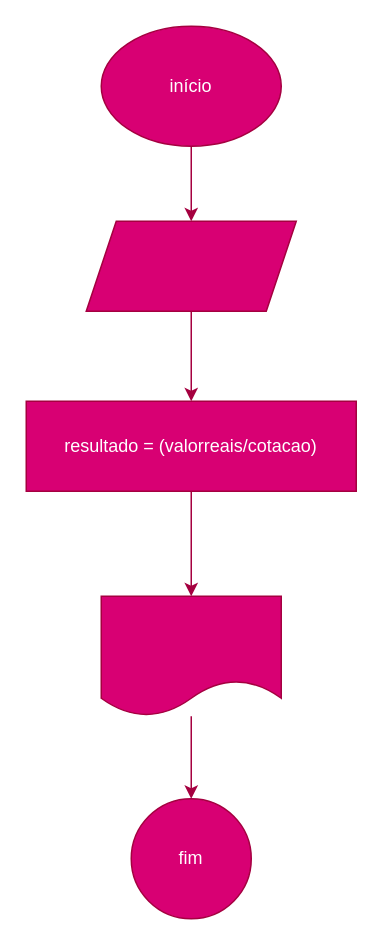
Some shapes in this 383 by 945 pixel diagram are drawn without their labels. Each missing label, with the centre of its shape:
"comissao" belongs at point 190,655.
"cotacao, valorreais" belongs at point 190,265.
